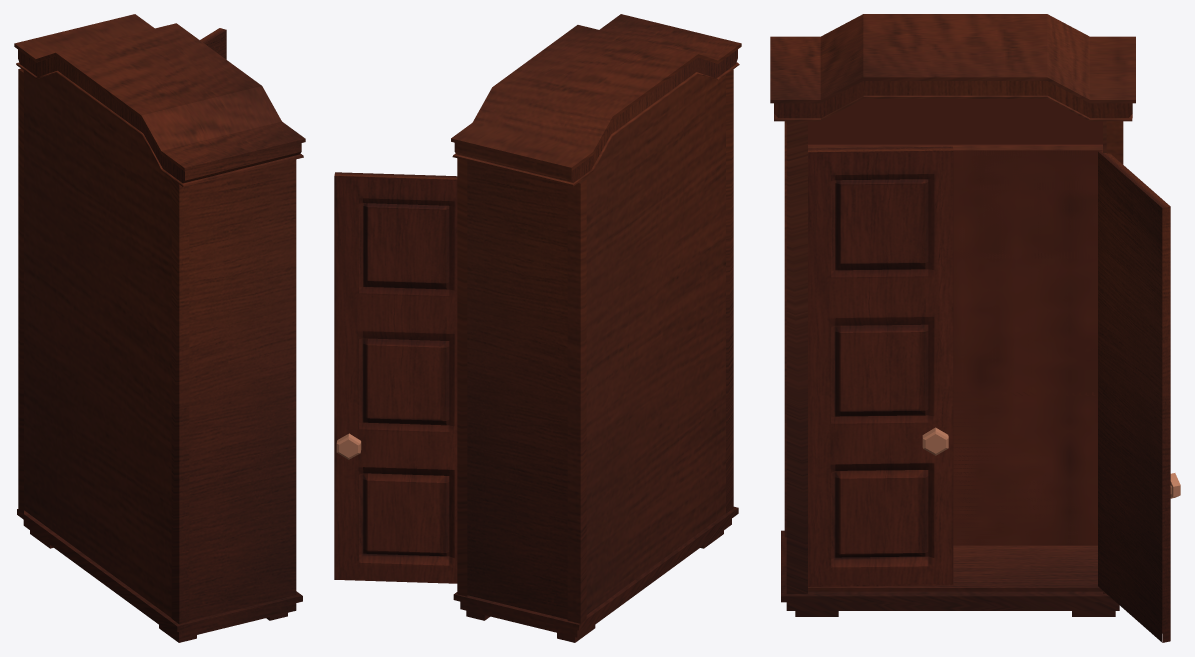
Rendered from CUPBORD.fbx.
3 views of the same model, side by side, from view 1: azimuth 30°, elevation 25°; view 2: azimuth 150°, elevation 25°; view 3: azimuth 270°, elevation 25° (orthographic). The views are drawn at different scales.
Parts seen in each view (by area): view 1: pCube5, Cube.098; view 2: pCube5, Cube.098; view 3: pCube5, Cube.104, Cube.098.
Boxes of the visible parts, x1=… form: pCube5: x1=14, y1=14, x2=305, y2=642; Cube.098: x1=200, y1=28, x2=226, y2=59; pCube5: x1=451, y1=14, x2=741, y2=642; Cube.098: x1=334, y1=172, x2=457, y2=583; pCube5: x1=770, y1=14, x2=1135, y2=616; Cube.104: x1=808, y1=146, x2=953, y2=586; Cube.098: x1=1098, y1=150, x2=1170, y2=642.
Size of the model in its own units: 388 by 825 by 565.
4 materials, 3 textured.
